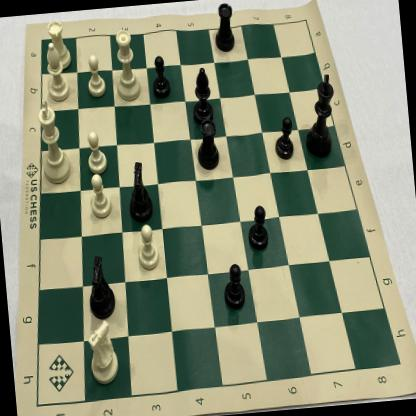bishop: (184, 60, 218, 130), (42, 38, 74, 106)
king: (298, 70, 344, 162), (34, 95, 74, 189)
knight: (84, 314, 126, 390), (121, 153, 160, 227), (81, 250, 119, 323)
pawn: (84, 170, 116, 222), (134, 222, 164, 274), (219, 260, 249, 312), (245, 202, 274, 254), (270, 112, 298, 163), (82, 50, 110, 100), (82, 127, 110, 176), (148, 50, 174, 100)
queen: (107, 24, 144, 106)
rook: (44, 16, 77, 76), (191, 117, 224, 175), (210, 0, 242, 58)
